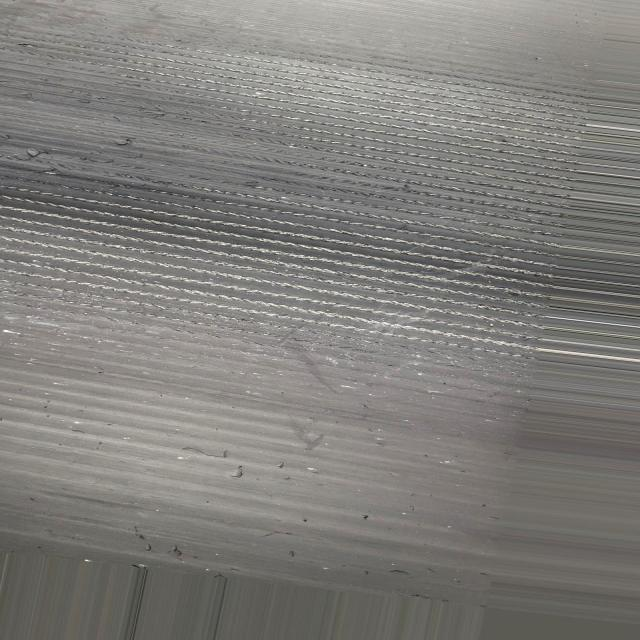impact damage: (5, 29, 637, 373)
